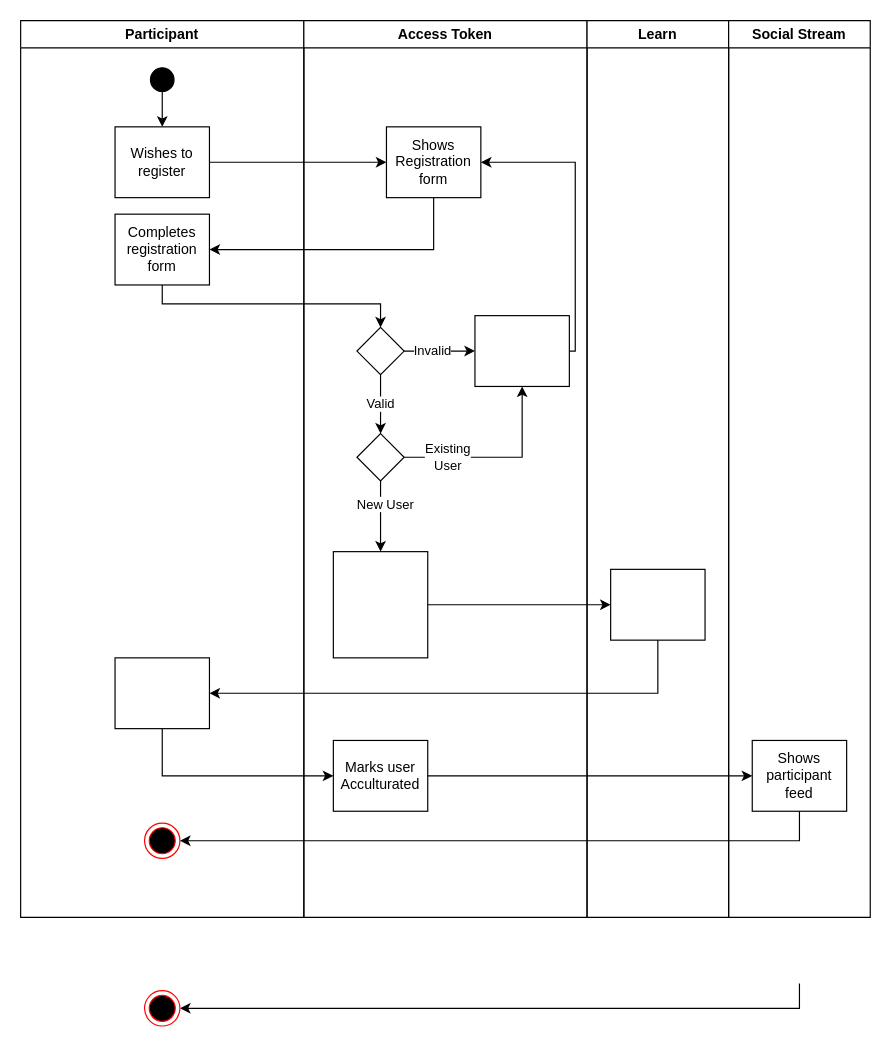
This 891x1047 diagram has some shape labels left out. Here are the shapes that lost their labels. From the top down, the centre of each, then its label:
At (x=521, y=350): "Adds Error Message".
At (x=380, y=604): "Creates account logs participant in & creates session".
At (x=657, y=604): "Shows Acculturation course".
At (x=161, y=693): "Completes Course".
